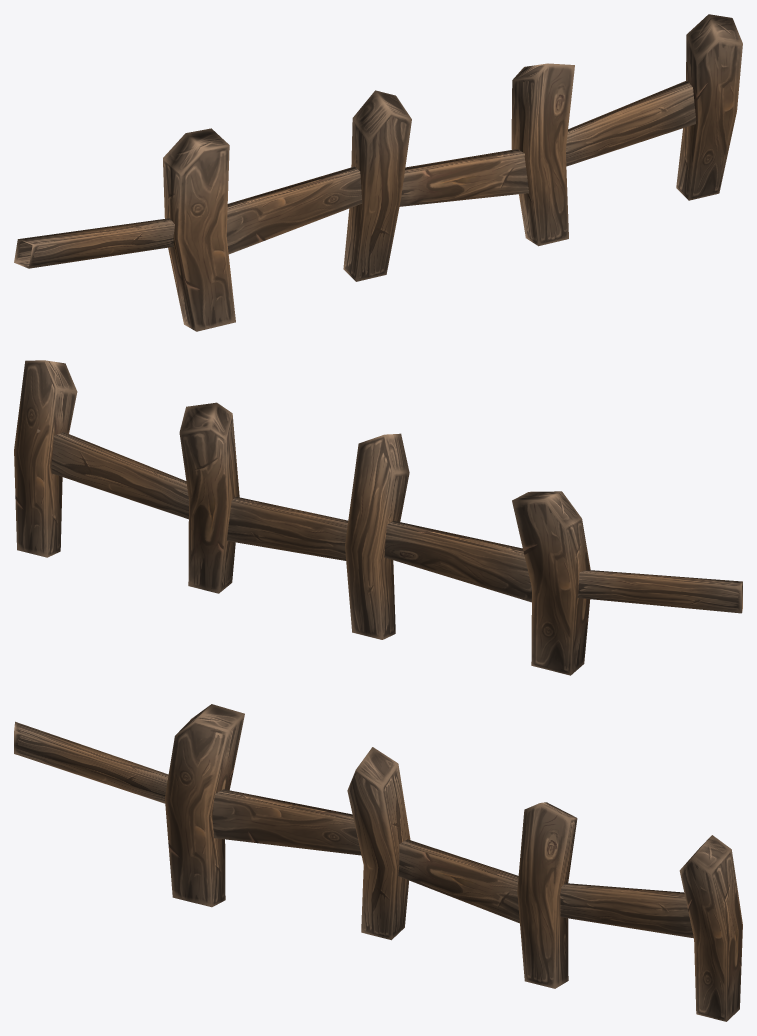
Rendered from fenceWoodMedA.fbx.
3 views of the same model, one above another, from view 1: azimuth 30°, elevation 25°; view 2: azimuth 150°, elevation 25°; view 3: azimuth 330°, elevation 25° (orthographic).
Parts seen in each view (by area): view 1: fenceWoodMedA; view 2: fenceWoodMedA; view 3: fenceWoodMedA.
Boxes of the visible parts, x1,y1,x2,y2 form: fenceWoodMedA: [14, 14, 742, 331]; fenceWoodMedA: [14, 360, 742, 675]; fenceWoodMedA: [14, 704, 742, 1021].
Size of the model in its own units: 546 by 139 by 46.28.
